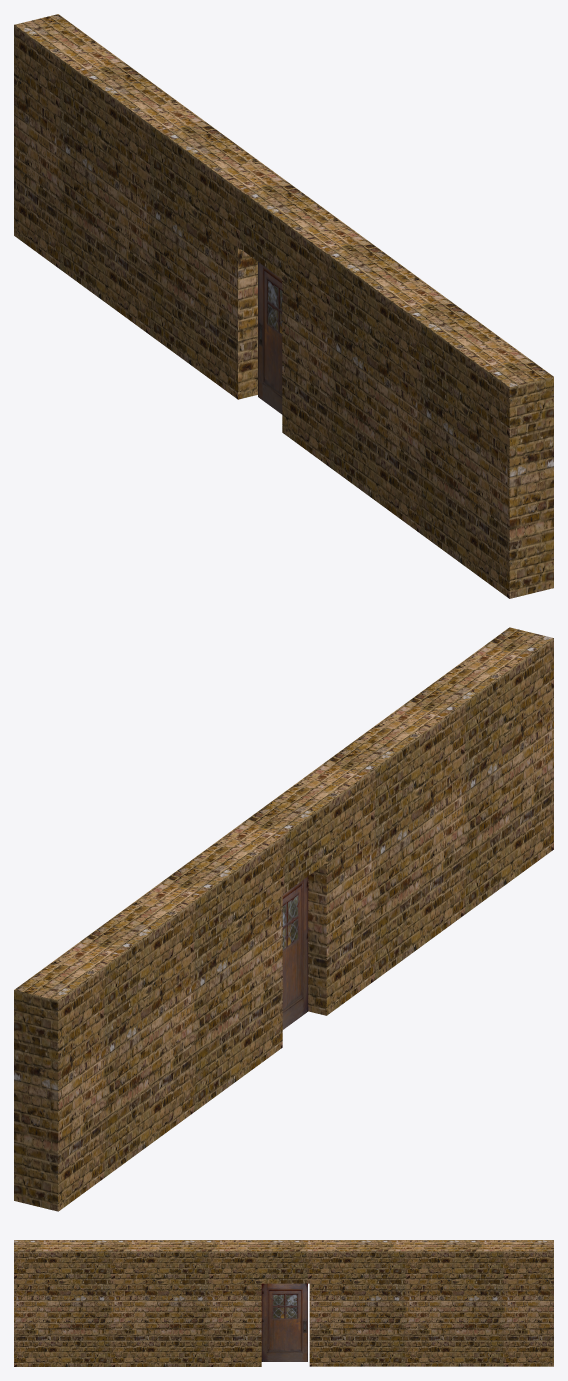
File: door_n_wall.fbx
The picture shows the model from 3 angles, top to bottom: view 1: azimuth 30°, elevation 25°; view 2: azimuth 150°, elevation 25°; view 3: azimuth 270°, elevation 25°; orthographic projection. The views are drawn at different scales.
Parts seen in each view (by area): view 1: pCube2, pCube1; view 2: pCube2, pCube1; view 3: pCube2, pCube1.
Boxes of the visible parts, x1,y1,x2,y2 form: pCube2: (14, 14, 553, 598); pCube1: (258, 262, 282, 414); pCube2: (14, 627, 553, 1211); pCube1: (282, 876, 308, 1029); pCube2: (14, 1240, 553, 1366); pCube1: (261, 1283, 307, 1361).
Bounding box in the file's own units: 4.16 × 18.92 × 80.42.
Materials: 2 (2 with a texture image).
